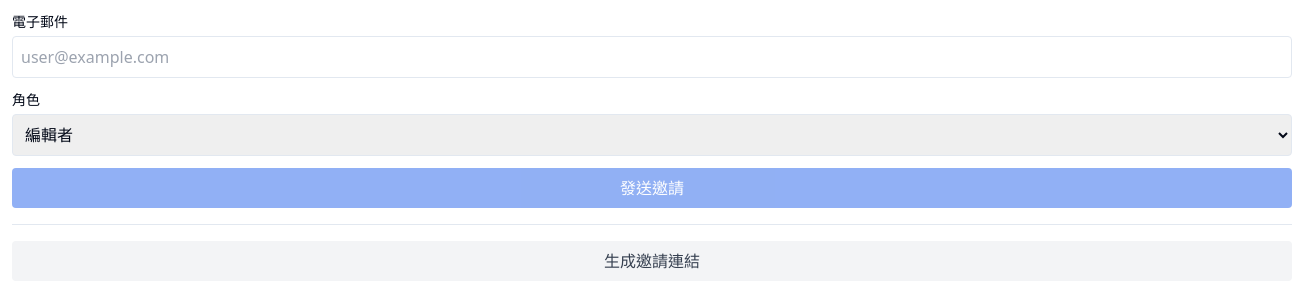
MemberInvite › enables button when email is entered
In the field with placeholder "user@example.com": [652, 57] box [12, 36, 1292, 78], type "test@example.com"
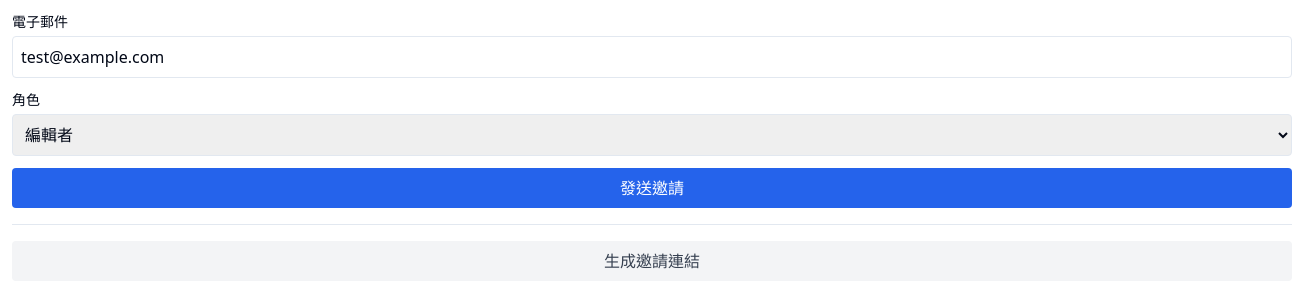
Now the button "發送邀請" is enabled, box [12, 168, 1292, 208]
